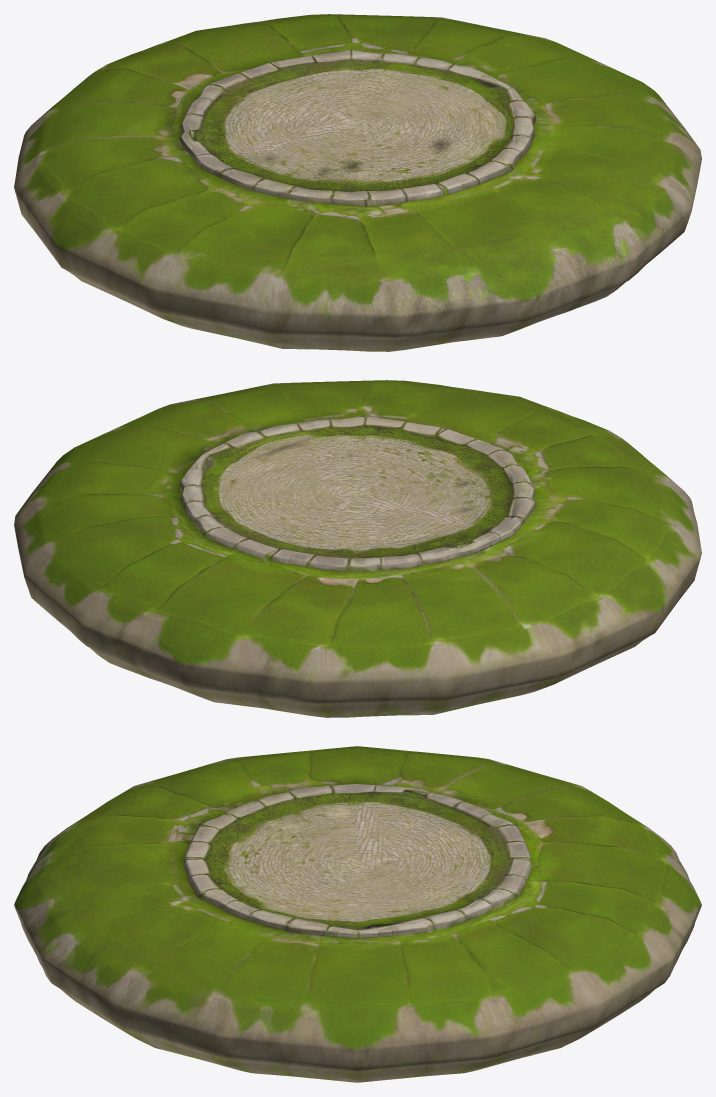
The model's file is _0930062431_texture.fbx.
3 renders of one model, top to bottom at view 1: azimuth 30°, elevation 25°; view 2: azimuth 150°, elevation 25°; view 3: azimuth 270°, elevation 25°, orthographic.
Visible parts, largest first — view 1: Mesh_0; view 2: Mesh_0; view 3: Mesh_0.
Part boxes in pixels (bbox=[...]): Mesh_0: bbox=[14, 14, 701, 351]; Mesh_0: bbox=[14, 380, 701, 717]; Mesh_0: bbox=[14, 746, 701, 1082].
Bounding box in the file's own units: 4436 × 1000 × 4419.
1 material, 1 textured.
